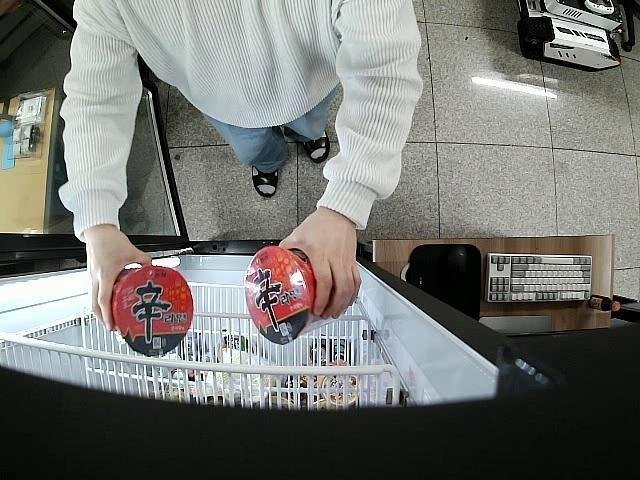01_ShinRamen_L: (246, 245, 350, 346), (110, 266, 194, 356)
